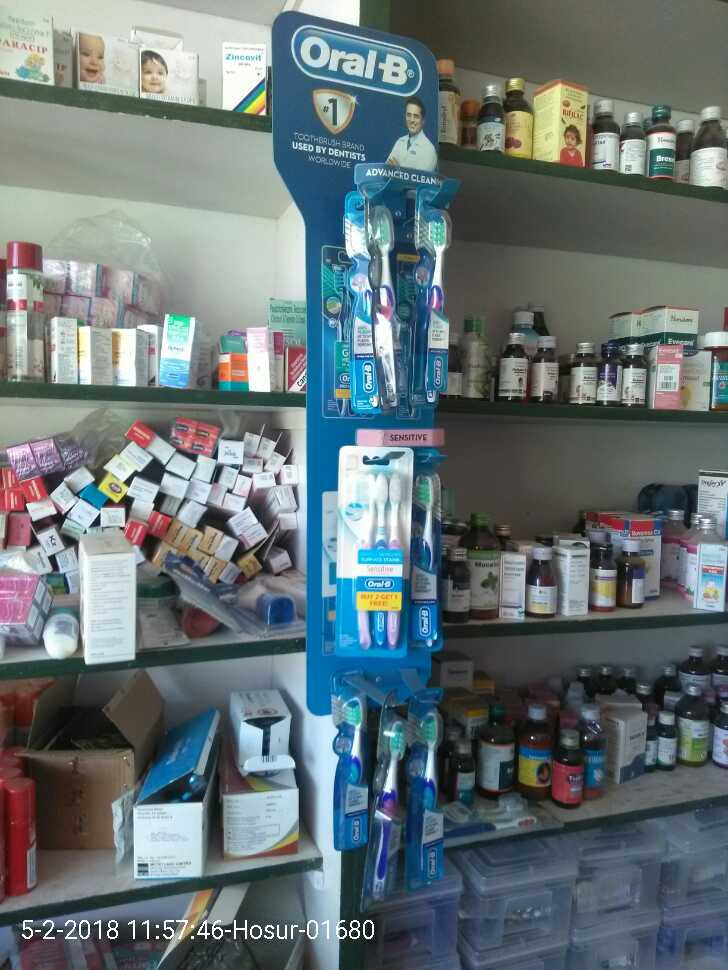oralb: (325, 428, 397, 648), (338, 205, 399, 414), (415, 208, 452, 397), (369, 723, 405, 901), (411, 466, 442, 646), (422, 711, 449, 883)
